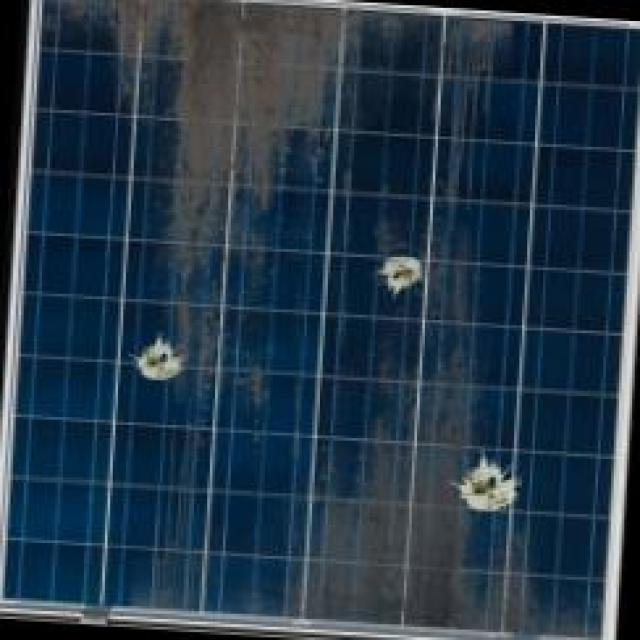Physical-damage: (446, 438, 533, 528), (122, 320, 204, 402), (366, 238, 442, 310)
